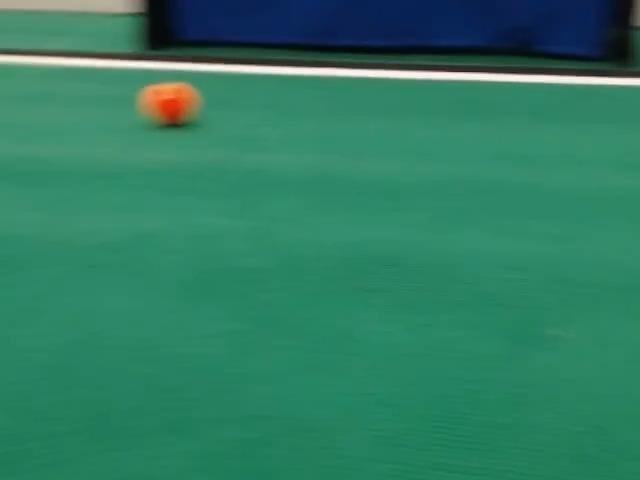Ball: (136, 82, 201, 126)
